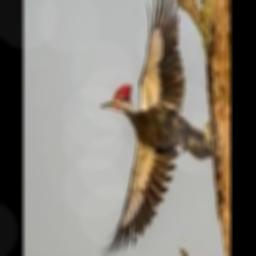Woodpecker: (97, 0, 214, 256)
